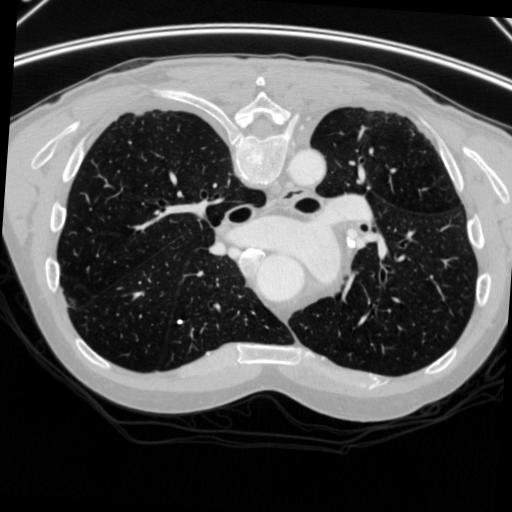nodule: (174, 317, 185, 328)
